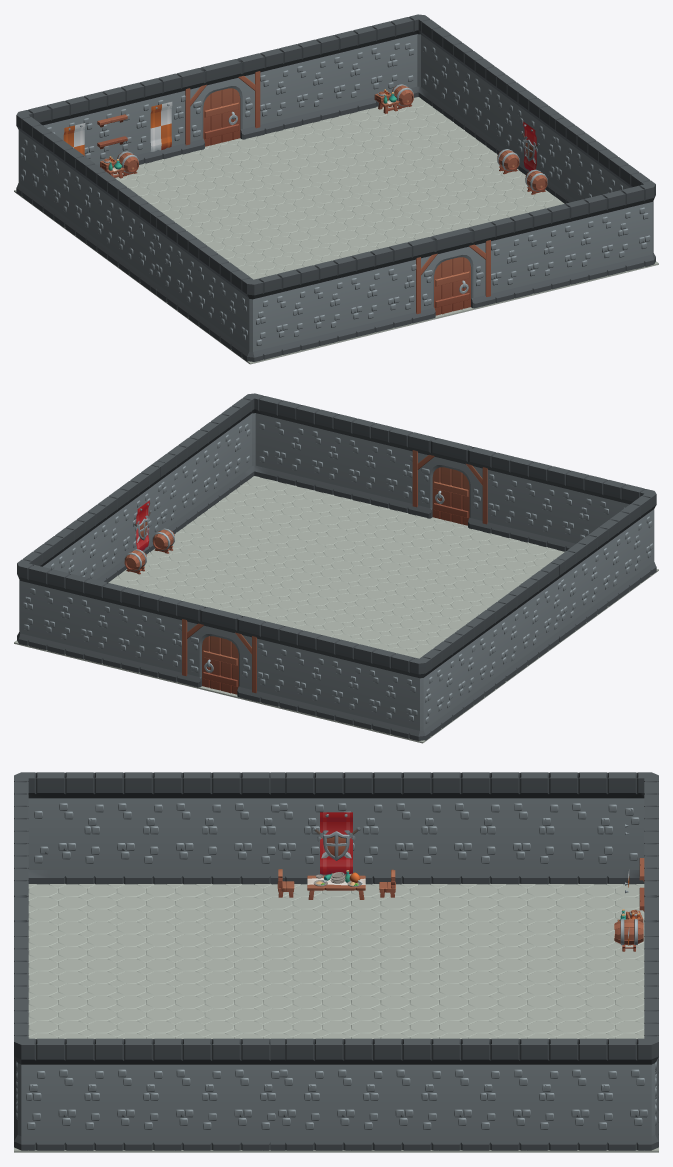
File: DungeonRoom.glb
3 renders of one model, top to bottom at view 1: azimuth 30°, elevation 25°; view 2: azimuth 150°, elevation 25°; view 3: azimuth 270°, elevation 25°, orthographic. The views are drawn at different scales.
Visible parts, largest first — view 1: wall_doorway_scaffold, wall_doorway_scaffold.001, wall.006, wall.014, wall.016, wall.012, wall.020, wall.011, wall.013, wall.007, wall_corner.002, wall.015 (+95 smaller); view 2: wall_doorway_scaffold.001, wall_doorway_scaffold, wall.006, wall.014, wall.004, wall.007, wall.016, wall.002, wall.011, wall.001, wall.003, wall.020 (+92 smaller); view 3: wall.031, wall.032, wall.039, wall.021, wall.022, wall.029, wall.038, wall.033, wall.034, wall.036, wall.040, wall.023 (+94 smaller).
Boxes of the visible parts, <box> form: wall_doorway_scaffold: <box>181,54,260,152</box>; wall_doorway_scaffold.001: <box>416,223,490,320</box>; wall.006: <box>325,28,367,118</box>; wall.014: <box>342,249,384,339</box>; wall.016: <box>556,197,598,286</box>; wall.012: <box>268,267,310,357</box>; wall.020: <box>519,206,560,295</box>; wall.011: <box>288,37,330,127</box>; wall.013: <box>305,258,347,348</box>; wall.007: <box>593,188,635,277</box>; wall_corner.002: <box>236,274,272,361</box>; wall.015: <box>379,240,421,329</box>; wall_doorway_scaffold.001: <box>412,433,489,532</box>; wall_doorway_scaffold: <box>181,602,256,701</box>; wall.006: <box>74,576,116,666</box>; wall.014: <box>519,459,561,549</box>; wall.004: <box>288,628,330,718</box>; wall.007: <box>268,398,310,487</box>; wall.016: <box>305,407,347,497</box>; wall.002: <box>362,646,404,736</box>; wall.011: <box>112,585,153,674</box>; wall.001: <box>37,567,79,657</box>; wall.003: <box>325,637,367,727</box>; wall.020: <box>342,416,384,506</box>; wall.031: <box>563,1038,622,1150</box>; wall.032: <box>50,1038,109,1150</box>; wall.039: <box>387,1038,446,1150</box>; wall.021: <box>563,772,622,884</box>; wall.022: <box>50,772,109,884</box>; wall.029: <box>387,772,446,884</box>; wall.038: <box>329,1038,387,1150</box>; wall.033: <box>109,1038,167,1150</box>; wall.034: <box>168,1038,226,1150</box>; wall.036: <box>505,1038,563,1150</box>; wall.040: <box>446,1038,504,1150</box>; wall.023: <box>109,772,167,884</box>.
Size of the model in its own units: 44.03 by 8.1 by 44.
12 materials, 11 textured.
